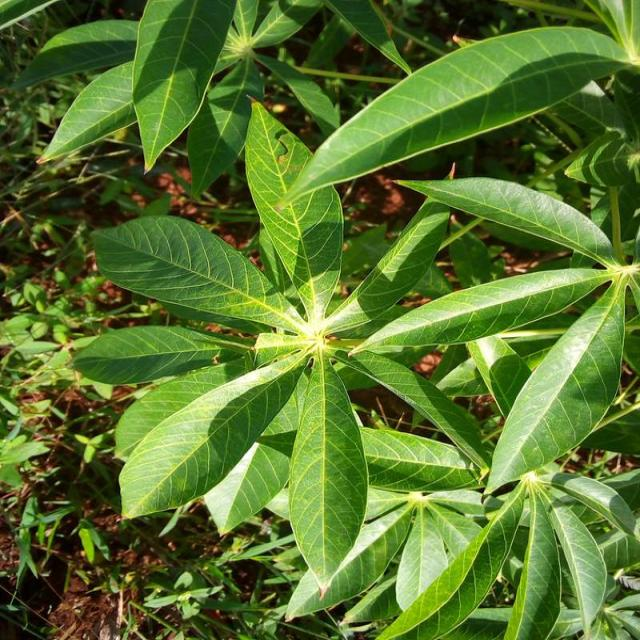cassava leaf: (274, 22, 634, 212), (484, 273, 626, 497), (243, 97, 344, 319), (286, 353, 369, 593)
